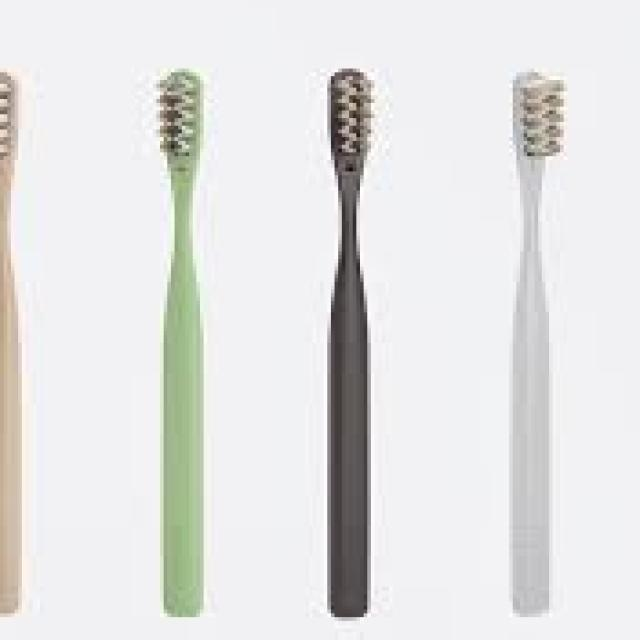organic: (134, 58, 593, 625)
